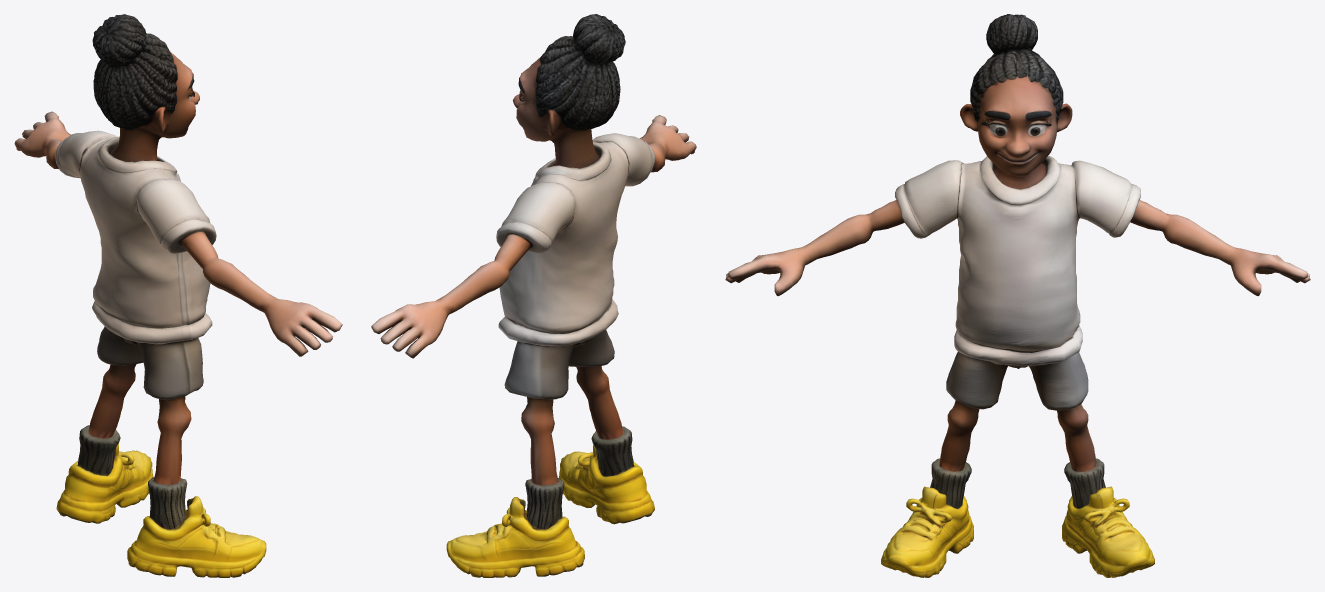
3 views of the same model, side by side, from view 1: azimuth 30°, elevation 25°; view 2: azimuth 150°, elevation 25°; view 3: azimuth 270°, elevation 25° (orthographic).
Visible parts, largest first — view 1: tripo_node_5ad5aa9d; view 2: tripo_node_5ad5aa9d; view 3: tripo_node_5ad5aa9d.
Boxes of the visible parts, x1,y1,x2,y2 form: tripo_node_5ad5aa9d: (14,14,342,577); tripo_node_5ad5aa9d: (371,14,696,577); tripo_node_5ad5aa9d: (725,14,1310,577).
Size of the model in its own units: 0.225 by 0.9961 by 1.
Materials: 1 (1 with a texture image).
